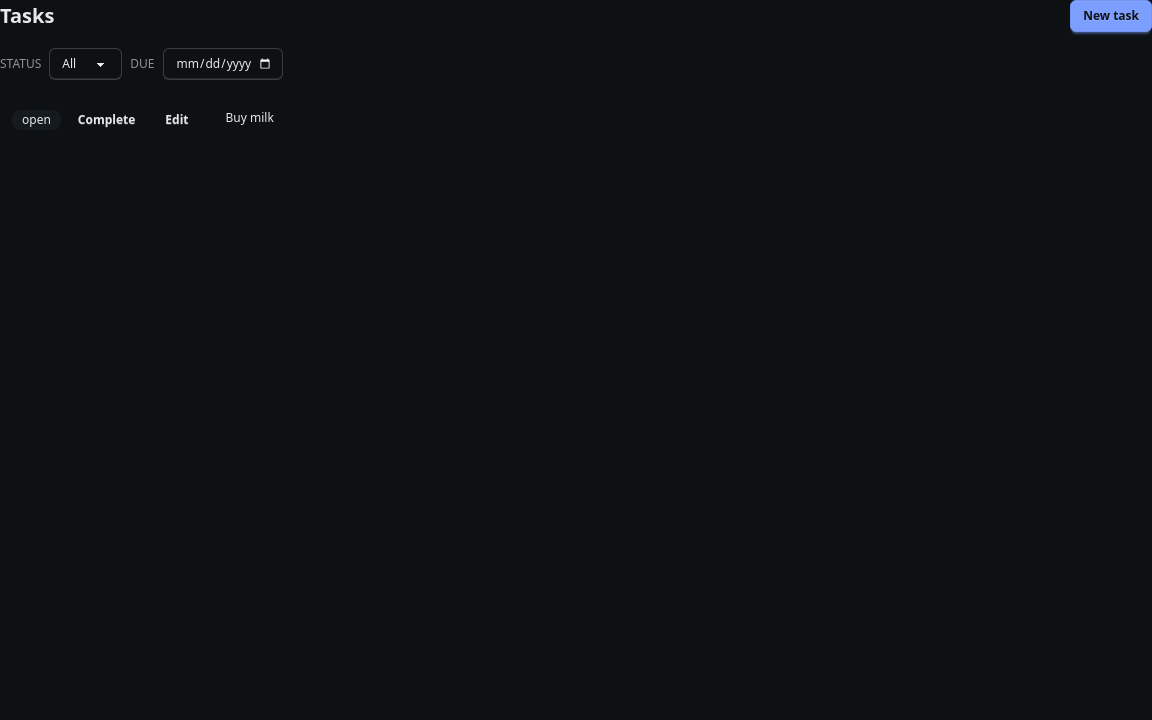
Test: TasksPage › opens the edit form from a row and closes it on cancel
Click the button "Buy milk": coordinates (250, 118) [226,109,274,127]
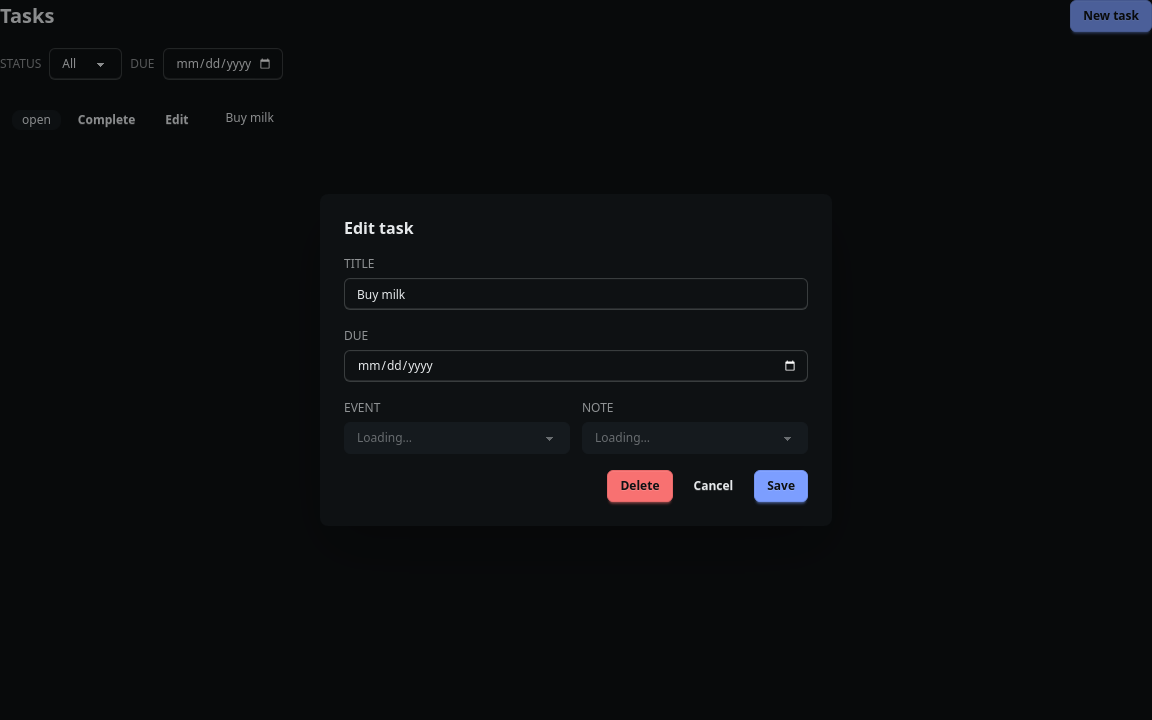
Result: the heading "Edit task" is shown at [344,217,414,239]
Click the button "Cancel": coordinates (713, 486) [680,470,746,502]
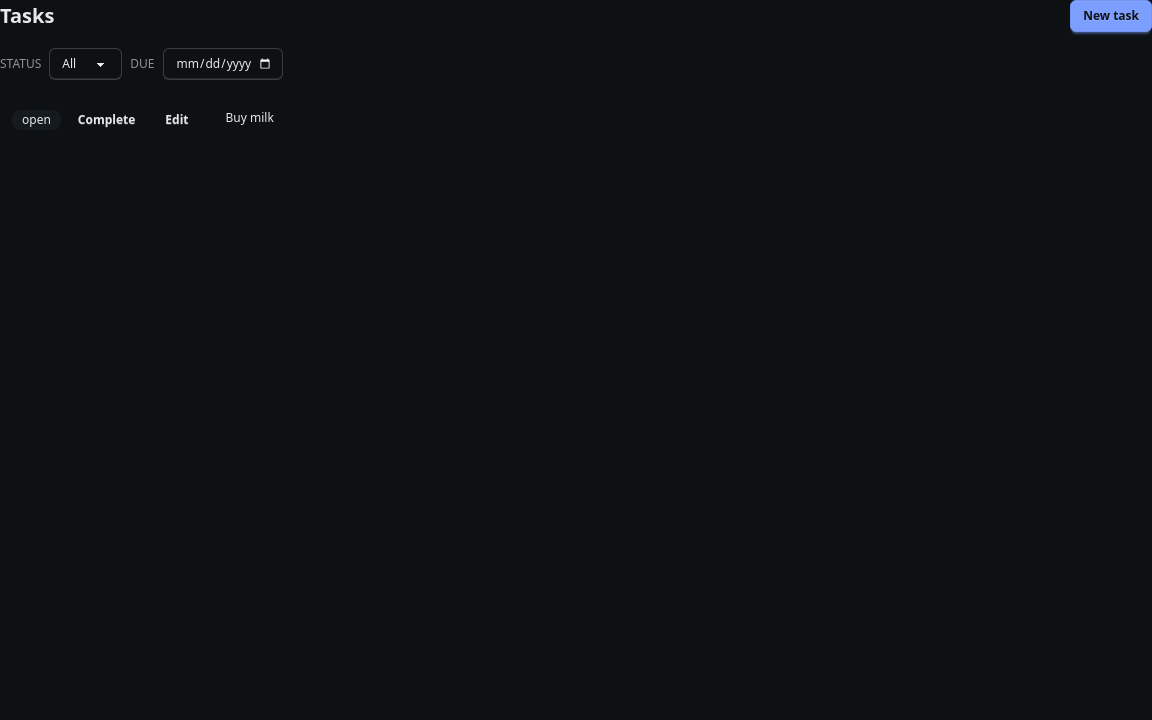
Result: the heading "Edit task" is gone
